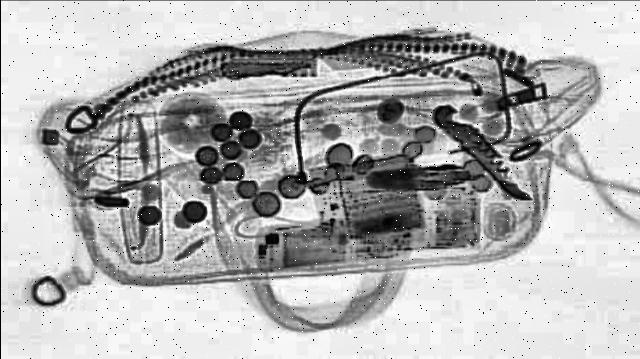Knife: (422, 101, 546, 202)
